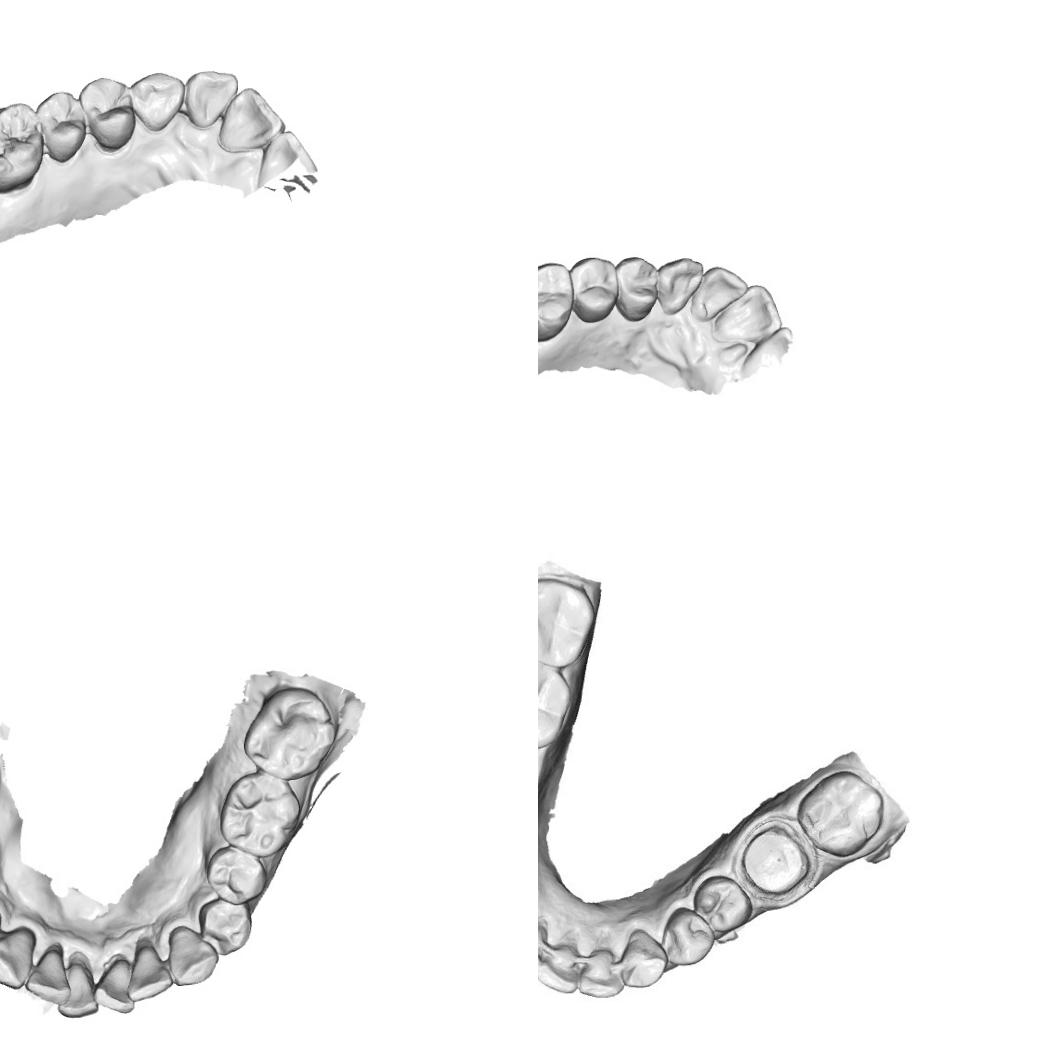canine: (129, 70, 187, 134), (166, 924, 220, 986), (656, 255, 706, 316), (0, 926, 38, 990), (623, 930, 664, 984)
crown: (739, 820, 812, 892)
incisor: (219, 86, 286, 164), (710, 282, 784, 345), (256, 128, 316, 188), (690, 264, 750, 323), (182, 69, 240, 130), (24, 944, 72, 1008), (124, 944, 174, 1001), (740, 325, 794, 374), (55, 962, 100, 1020), (574, 949, 626, 999), (92, 958, 134, 1015), (538, 948, 582, 998)
molar: (242, 685, 337, 783), (218, 766, 306, 859), (798, 774, 879, 854), (538, 579, 590, 662), (0, 101, 45, 194), (538, 261, 575, 344), (538, 657, 572, 745)
premolar: (78, 75, 135, 154), (205, 844, 269, 906), (38, 89, 86, 164), (568, 254, 618, 326), (196, 897, 254, 957), (696, 877, 754, 934), (614, 254, 660, 323), (665, 909, 714, 962)
